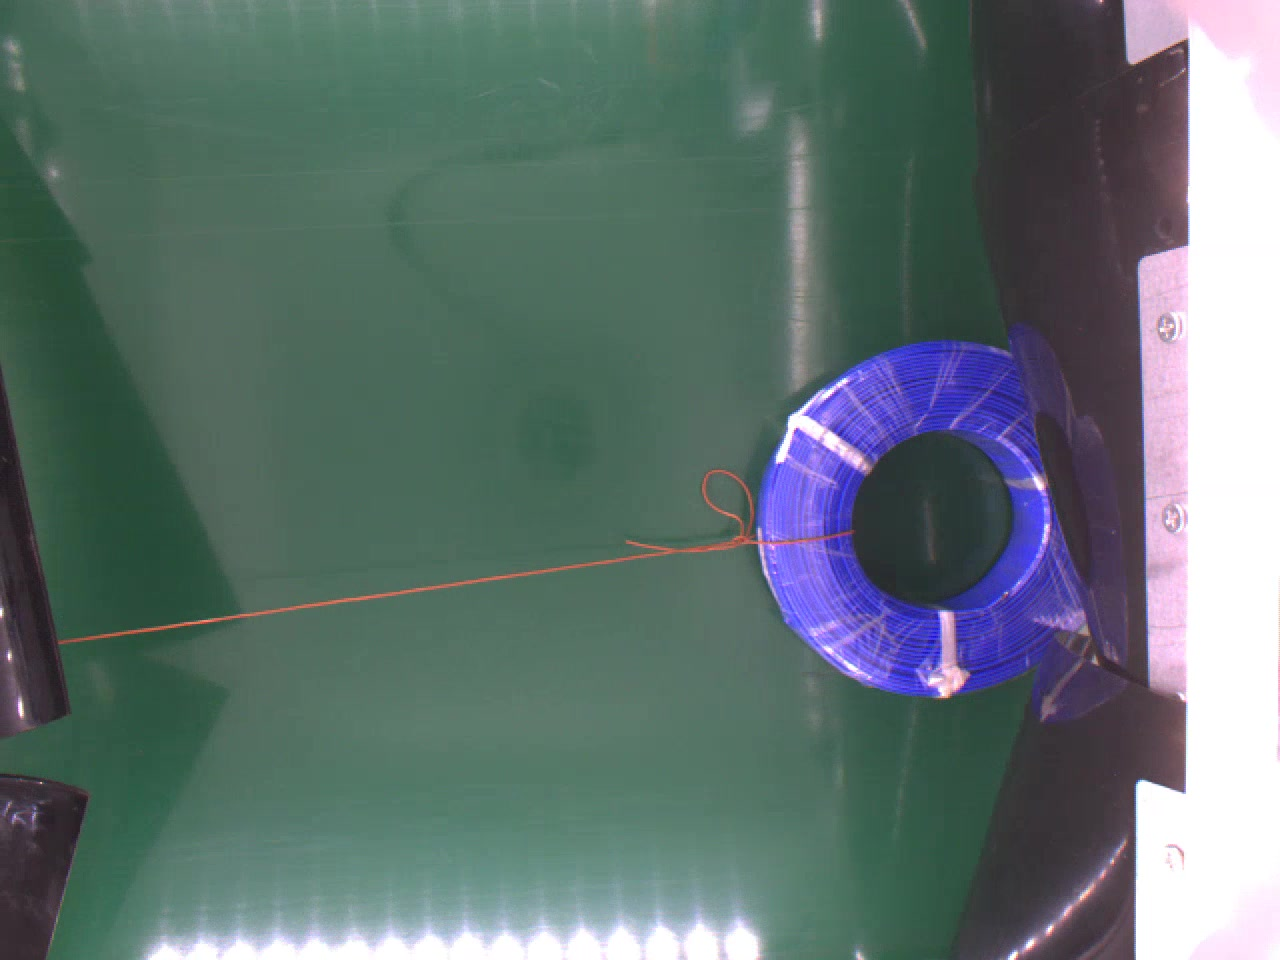blue: (764, 342, 1090, 691)
